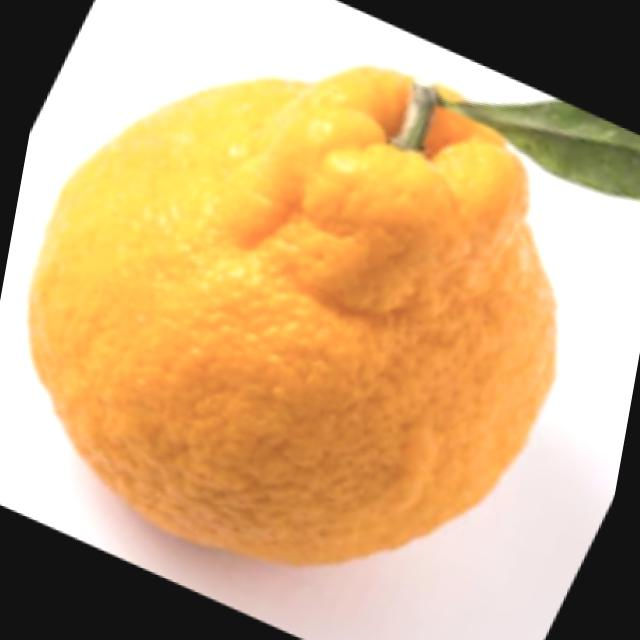orange: (0, 20, 607, 618)
